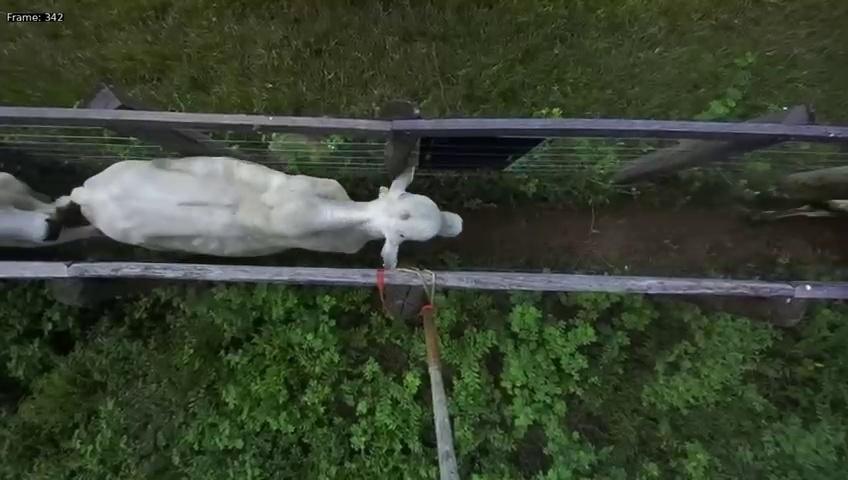cattle: (64, 133, 464, 268)
